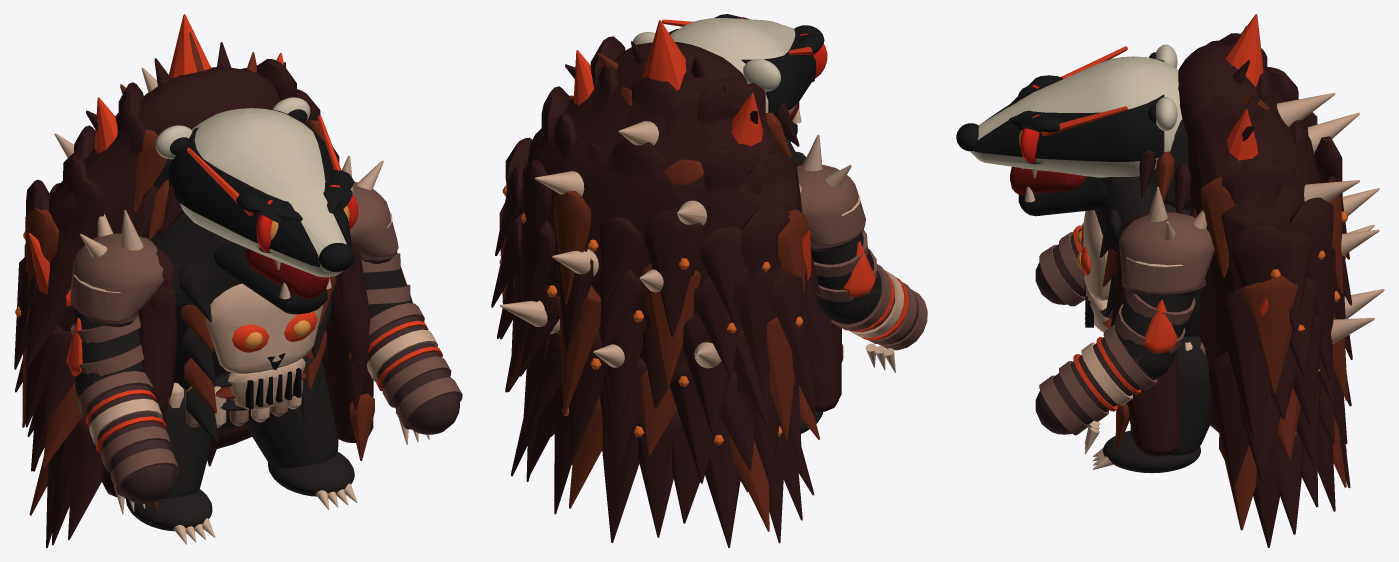
Rendered from castlemaw_rage.glb.
The picture shows the model from 3 angles, left to right: view 1: azimuth 30°, elevation 25°; view 2: azimuth 150°, elevation 25°; view 3: azimuth 270°, elevation 25°; orthographic projection. The views are drawn at different scales.
Visible parts, largest first — view 1: creature; view 2: creature; view 3: creature.
Boxes of the visible parts, <box> form: creature: <box>14,14,462,547</box>; creature: <box>491,14,927,547</box>; creature: <box>956,14,1384,547</box>.
Size of the model in its own units: 0.7092 by 1 by 0.8197.
